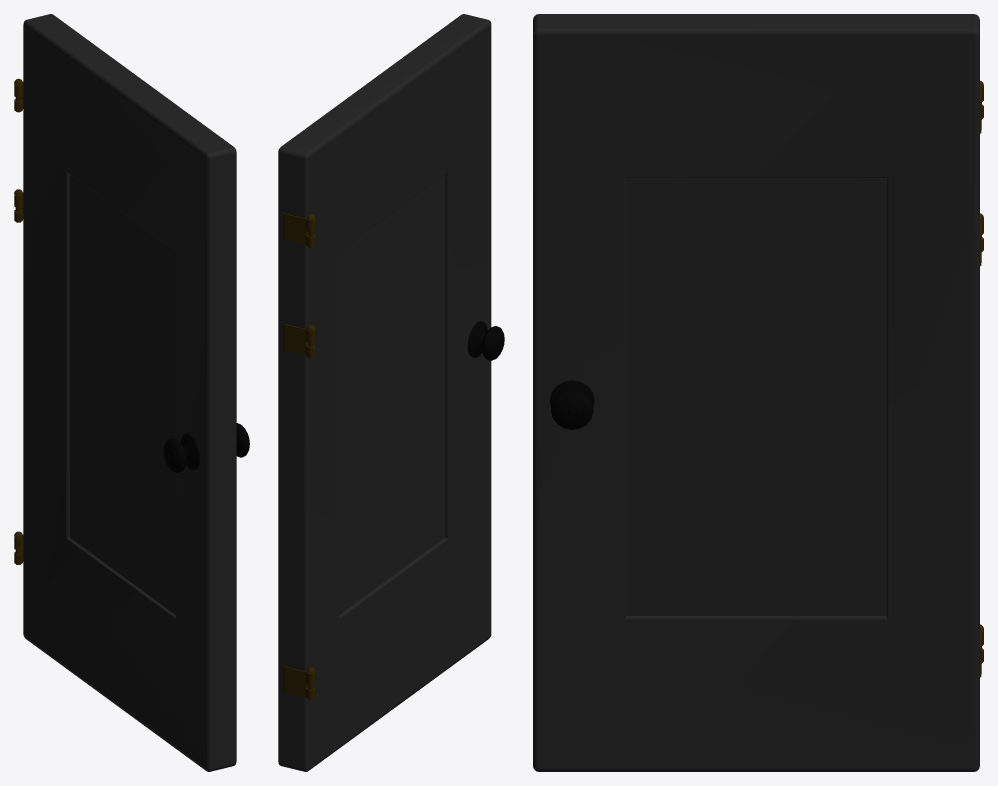
The model's file is door__in.fbx.
The picture shows the model from 3 angles, left to right: view 1: azimuth 30°, elevation 25°; view 2: azimuth 150°, elevation 25°; view 3: azimuth 270°, elevation 25°; orthographic projection. The views are drawn at different scales.
Visible parts, largest first — view 1: door4; view 2: door4; view 3: door4.
Boxes of the visible parts, x1,y1,x2,y2 form: door4: (14, 14, 249, 771); door4: (278, 14, 504, 771); door4: (533, 14, 983, 771).
Size of the model in its own units: 0.019 by 0.1424 by 0.0783.
